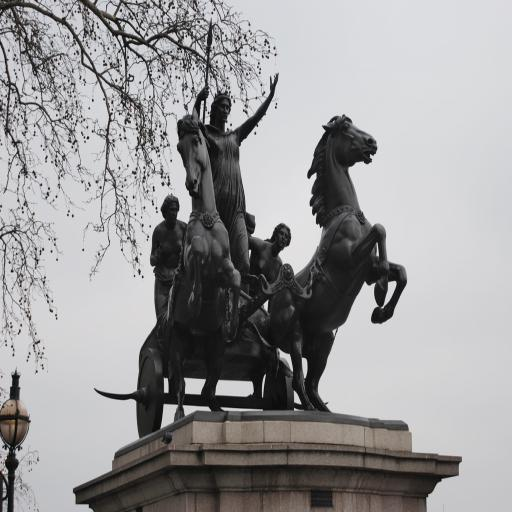horse: (262, 110, 408, 412), (162, 106, 244, 422)
